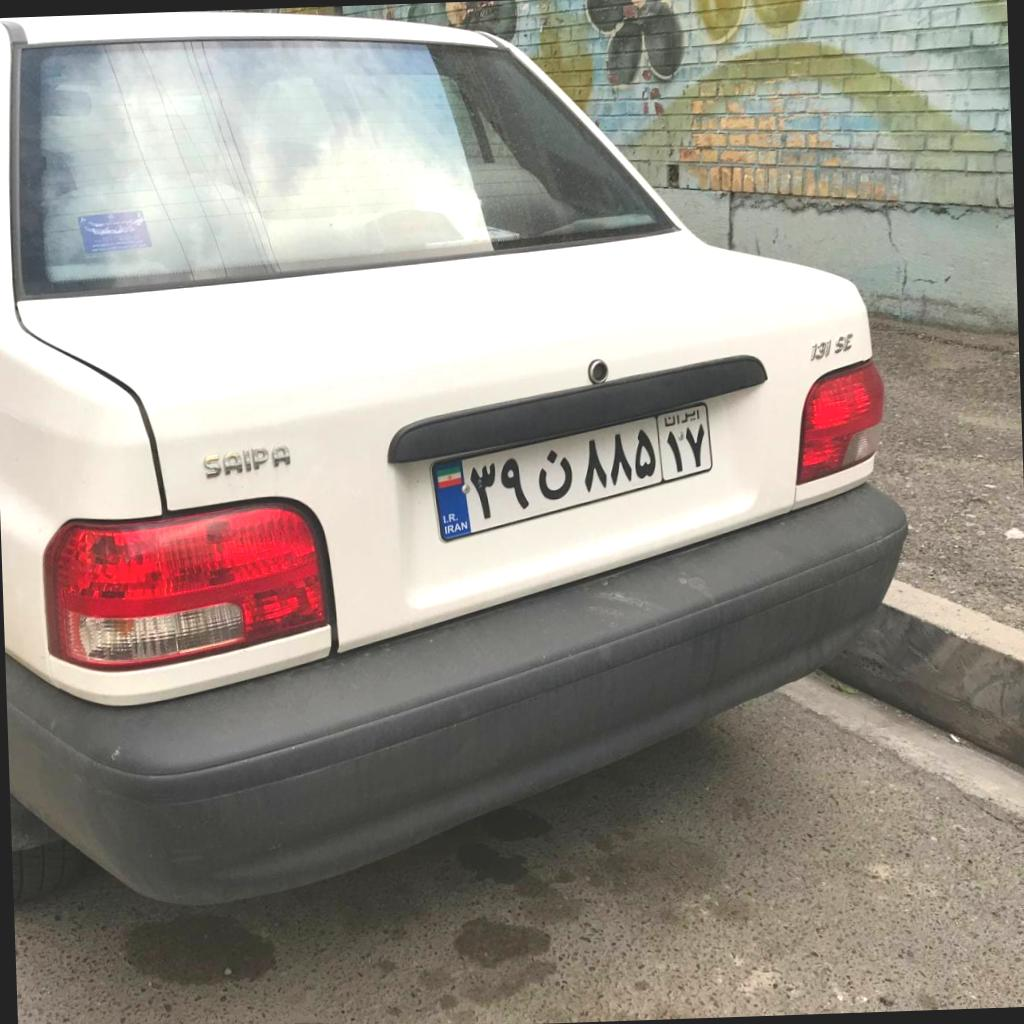Plates: (428, 403, 712, 542)
